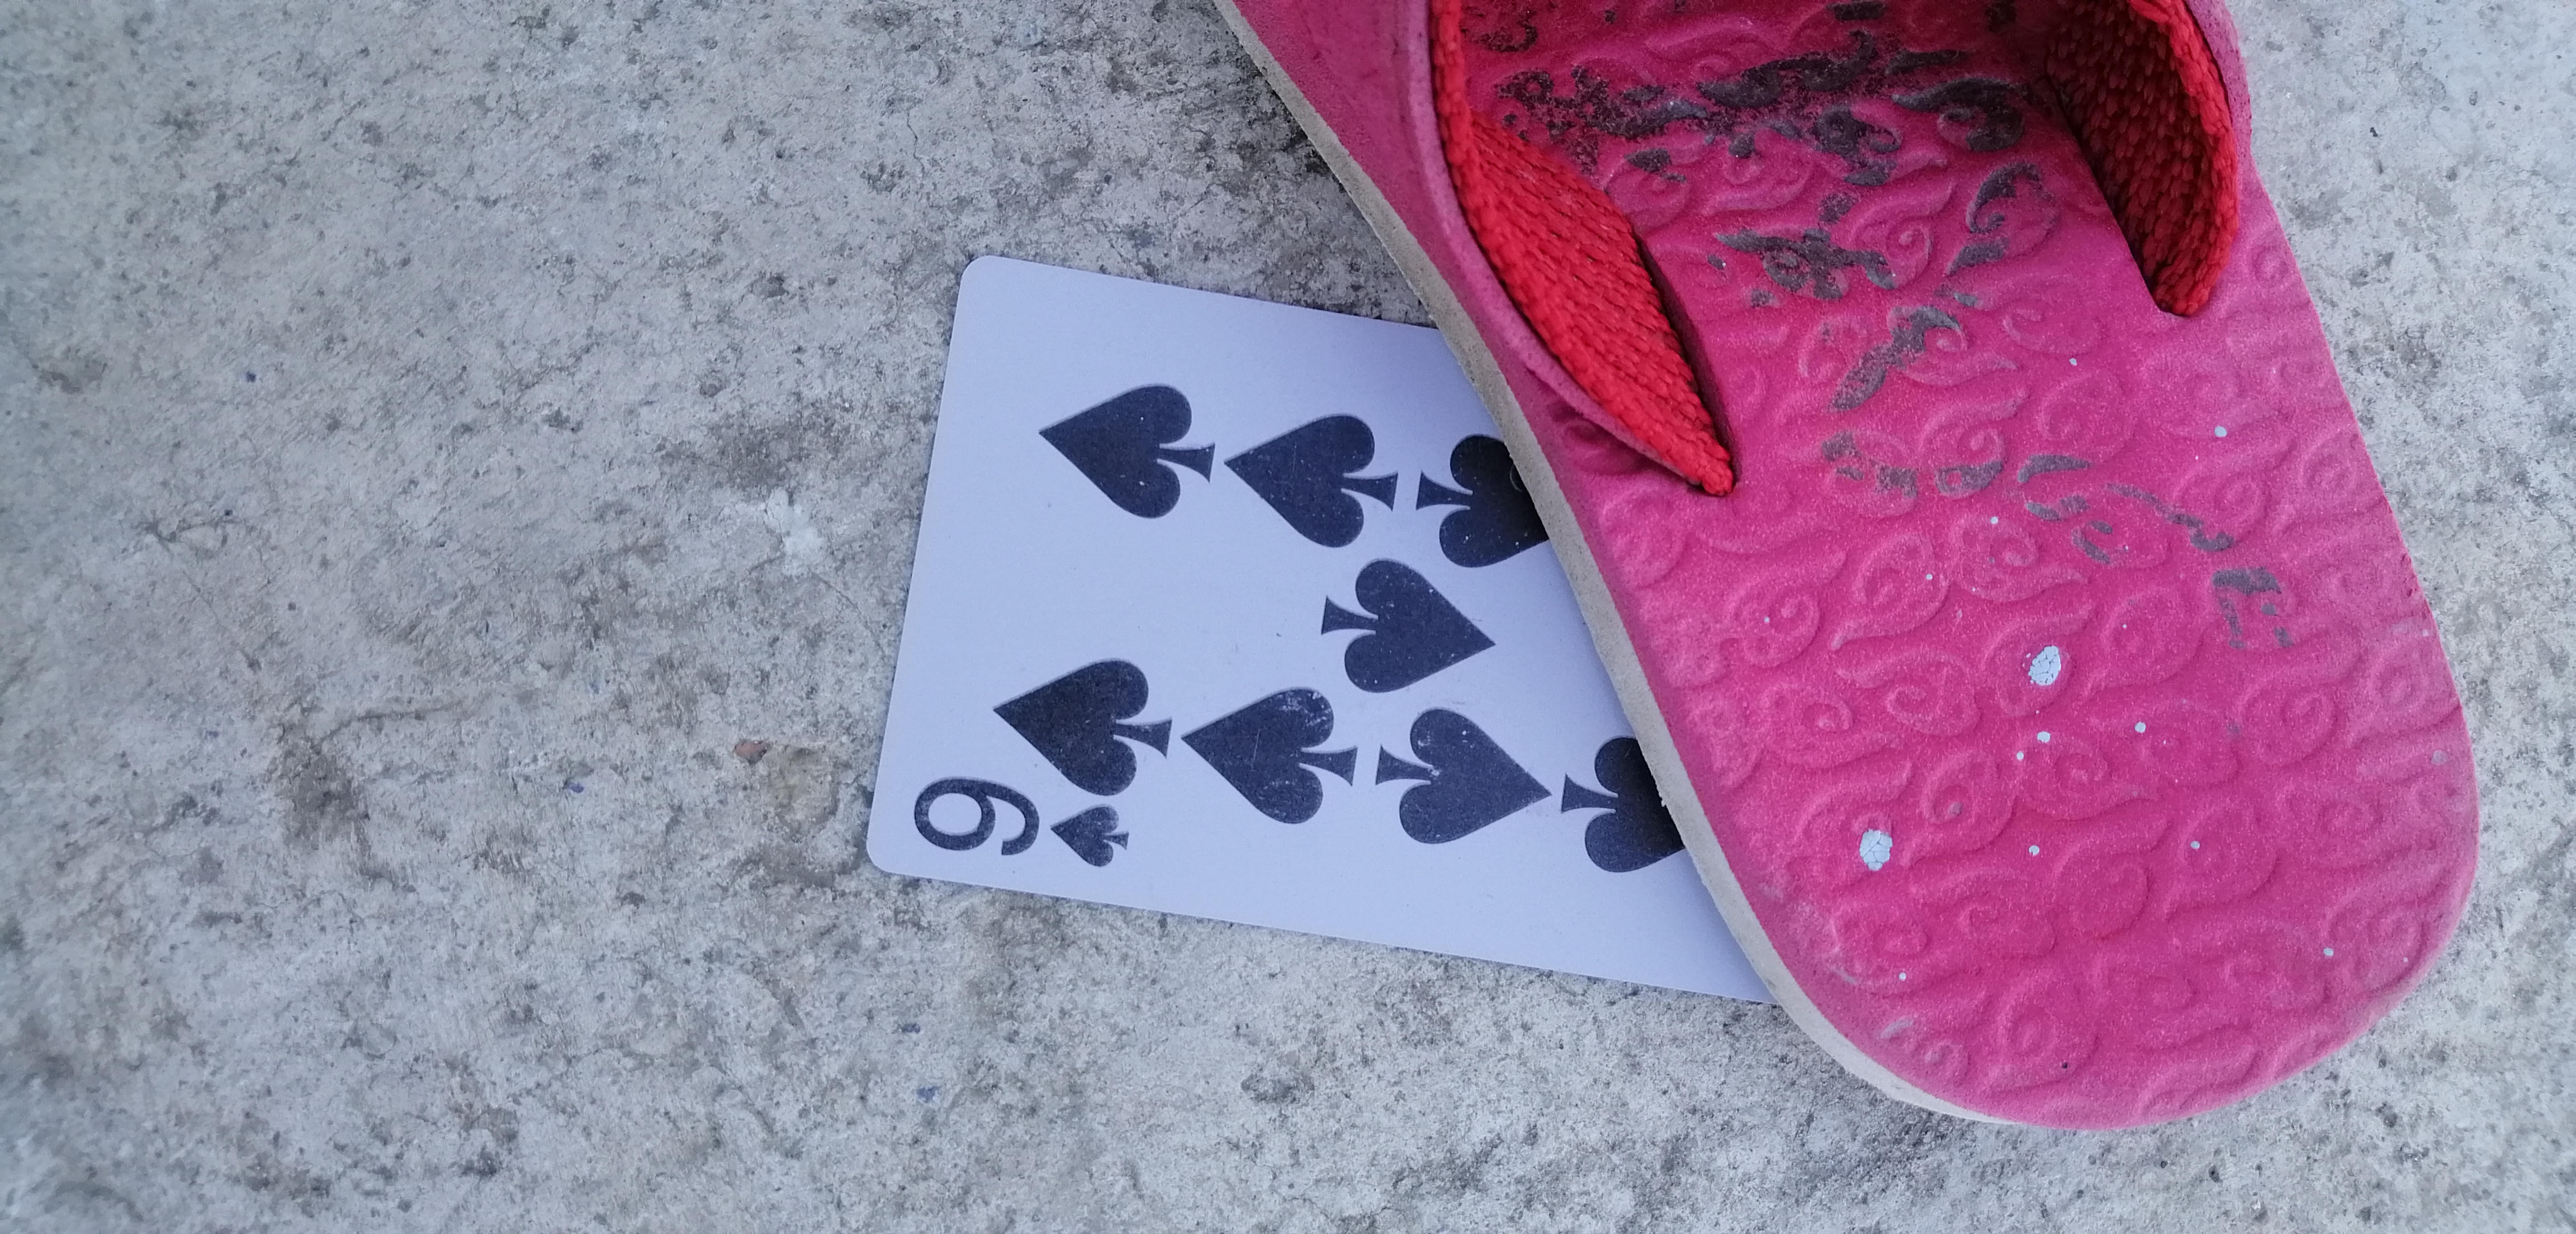nine: (812, 228, 1738, 1006)
